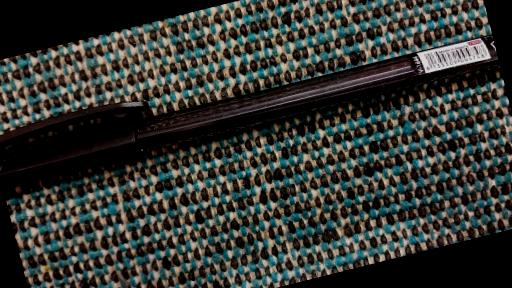pen: (0, 7, 500, 188)
